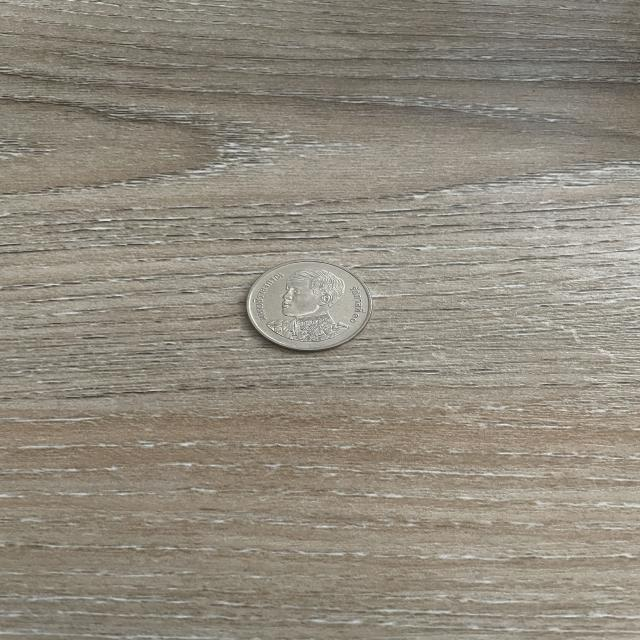1 Bath: (234, 252, 385, 360)
